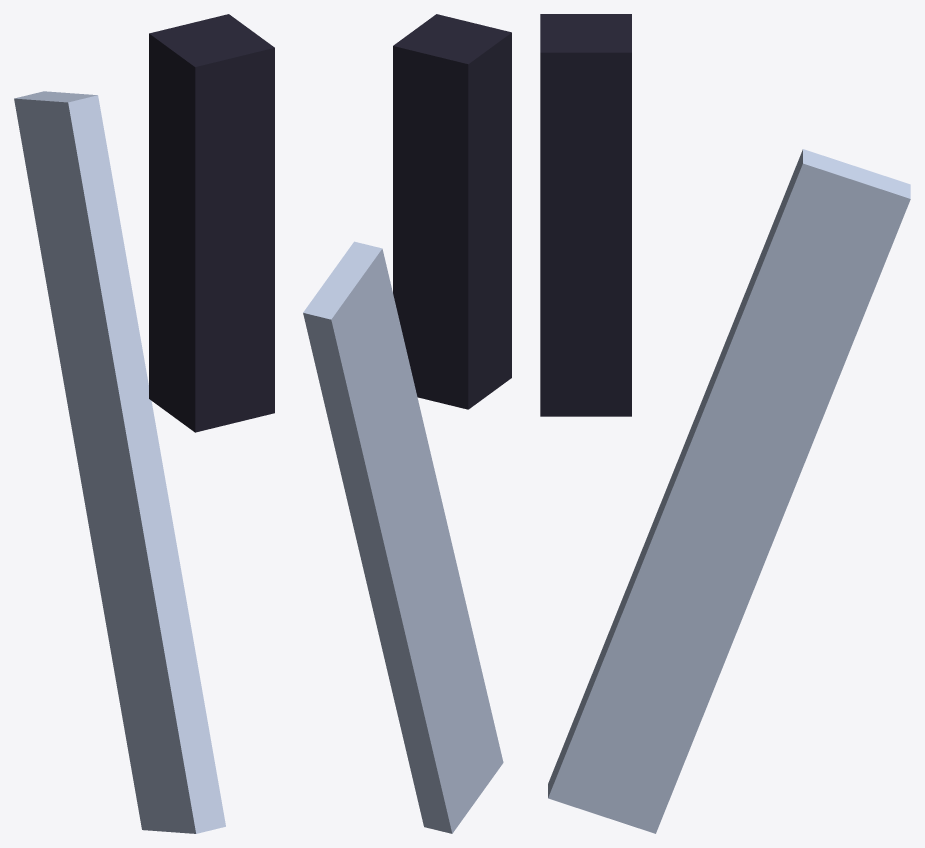
Rendered from boss_spectre_arm_l.obj.
The picture shows the model from 3 angles, left to right: view 1: azimuth 30°, elevation 25°; view 2: azimuth 150°, elevation 25°; view 3: azimuth 270°, elevation 25°; orthographic projection. The views are drawn at different scales.
Visible parts, largest first — view 1: blade, body; view 2: blade, body; view 3: blade, body.
Part boxes in pixels (bbox=[...]): blade: bbox=[14, 91, 225, 833]; body: bbox=[149, 14, 274, 432]; blade: bbox=[303, 241, 503, 833]; body: bbox=[393, 14, 511, 409]; blade: bbox=[548, 149, 910, 833]; body: bbox=[540, 14, 631, 416].
Size of the model in its own units: 0.16 by 1.54 by 0.6463.
